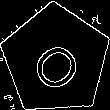O_NE: (24, 27, 88, 92)
